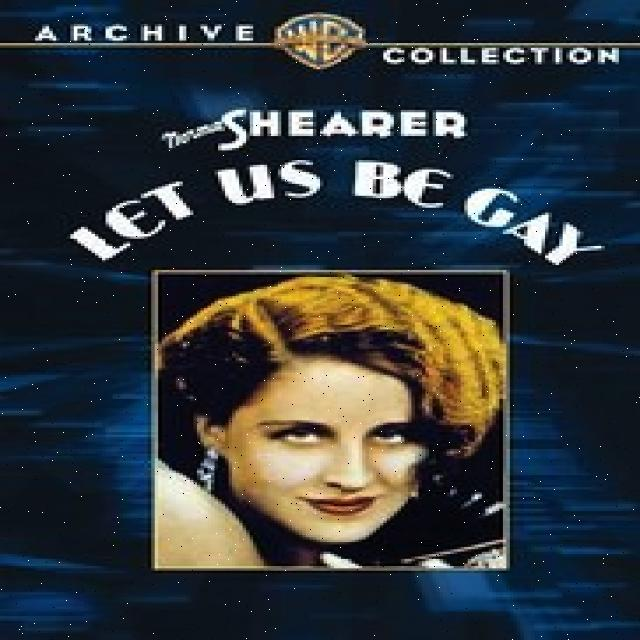movie-judul: (32, 90, 616, 271)
picture: (159, 273, 507, 571)
